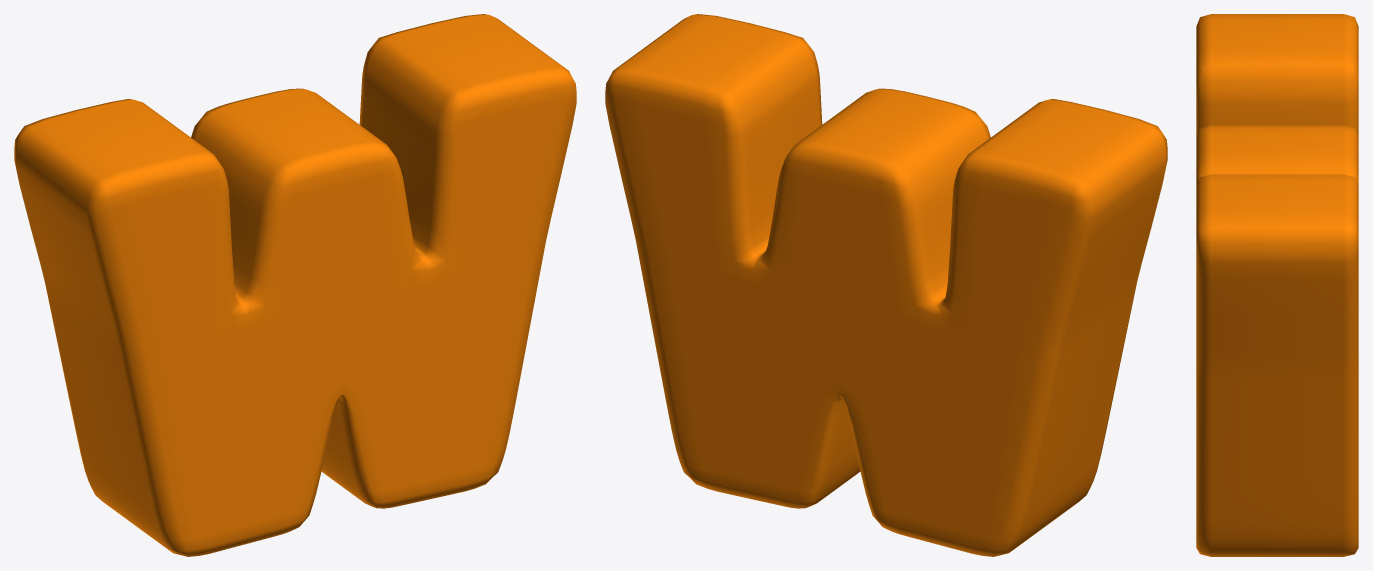
3 views of the same model, side by side, from view 1: azimuth 30°, elevation 25°; view 2: azimuth 150°, elevation 25°; view 3: azimuth 270°, elevation 25° (orthographic). The views are drawn at different scales.
Parts seen in each view (by area): view 1: LETTER_W; view 2: LETTER_W; view 3: LETTER_W.
Boxes of the visible parts, bbox=[...] form: LETTER_W: bbox=[14, 14, 576, 556]; LETTER_W: bbox=[605, 14, 1167, 556]; LETTER_W: bbox=[1196, 14, 1358, 556].
Bounding box in the file's own units: 1.27 × 1 × 0.3916.
